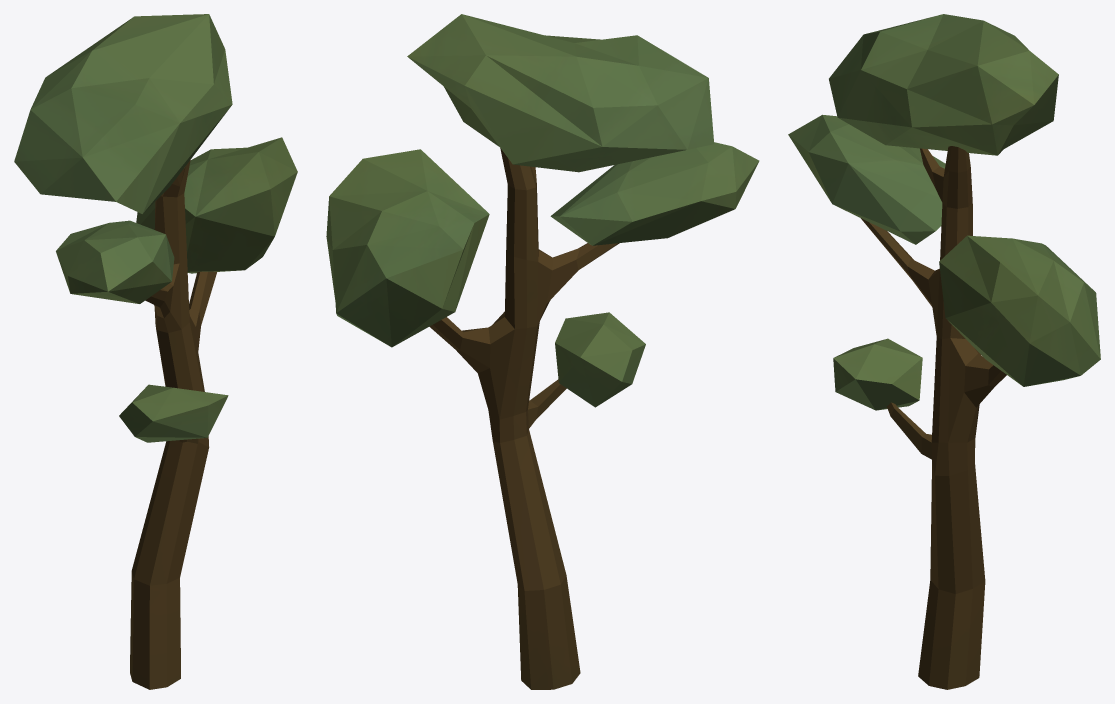
File: Tree1.fbx
3 renders of one model, left to right at view 1: azimuth 30°, elevation 25°; view 2: azimuth 150°, elevation 25°; view 3: azimuth 270°, elevation 25°, orthographic. The views are drawn at different scales.
Visible parts, largest first — view 1: Tree1; view 2: Tree1; view 3: Tree1.
Boxes of the visible parts, x1,y1,x2,y2 form: Tree1: (14, 14, 297, 689); Tree1: (326, 14, 759, 689); Tree1: (788, 14, 1100, 689).
Bounding box in the file's own units: 468 × 912 × 400.
